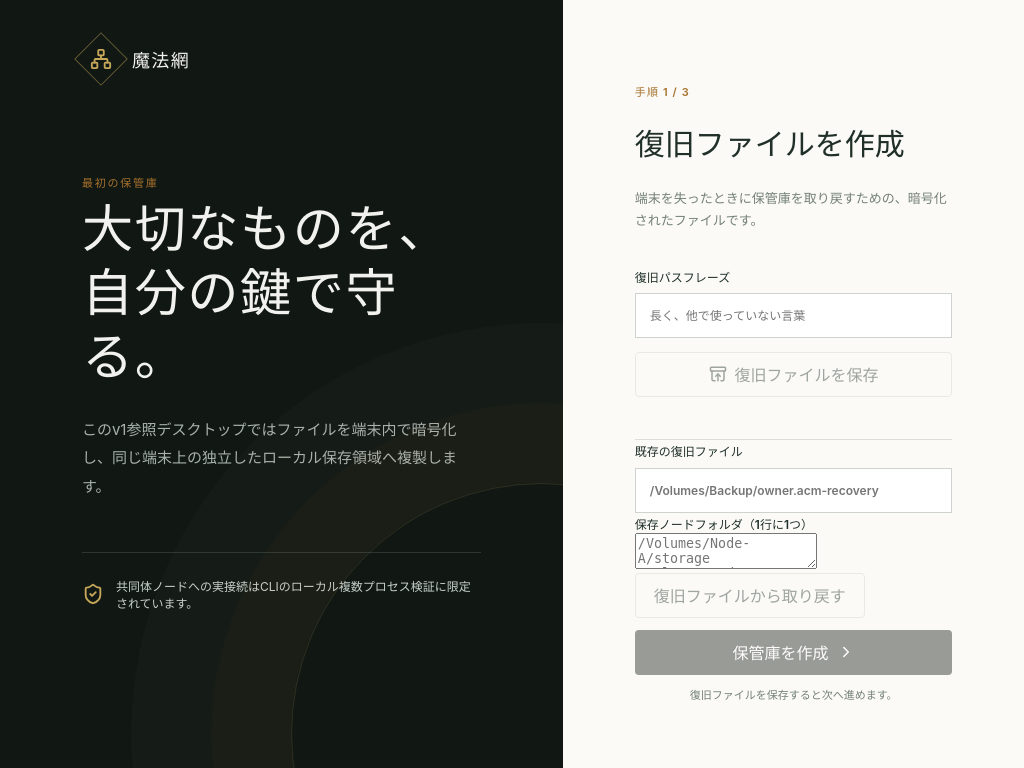
Scenario: desktop safety flows › shows overview after recovery export
Expected: the button "保管庫を作成" is disabled, [635, 630, 952, 675]
Type "very long recovery phrase" into the password field labelled "復旧パスフレーズ" at (794, 315), box [635, 293, 952, 338]
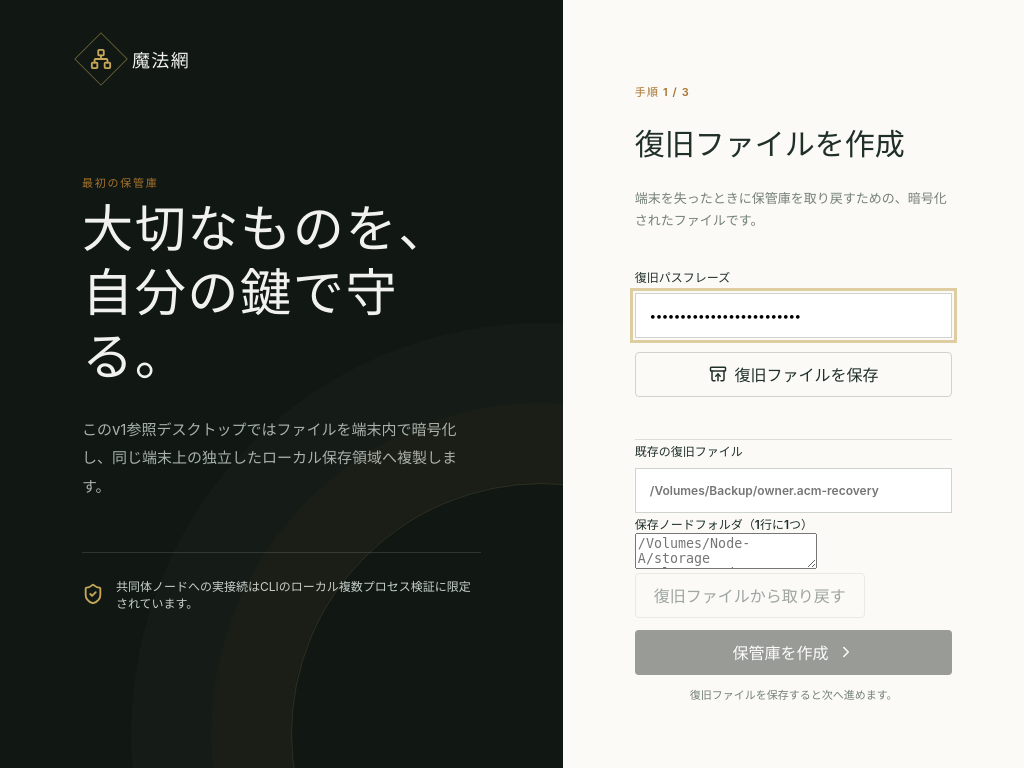
Click the button "復旧ファイルを保存" at (794, 374), box [635, 352, 952, 397]
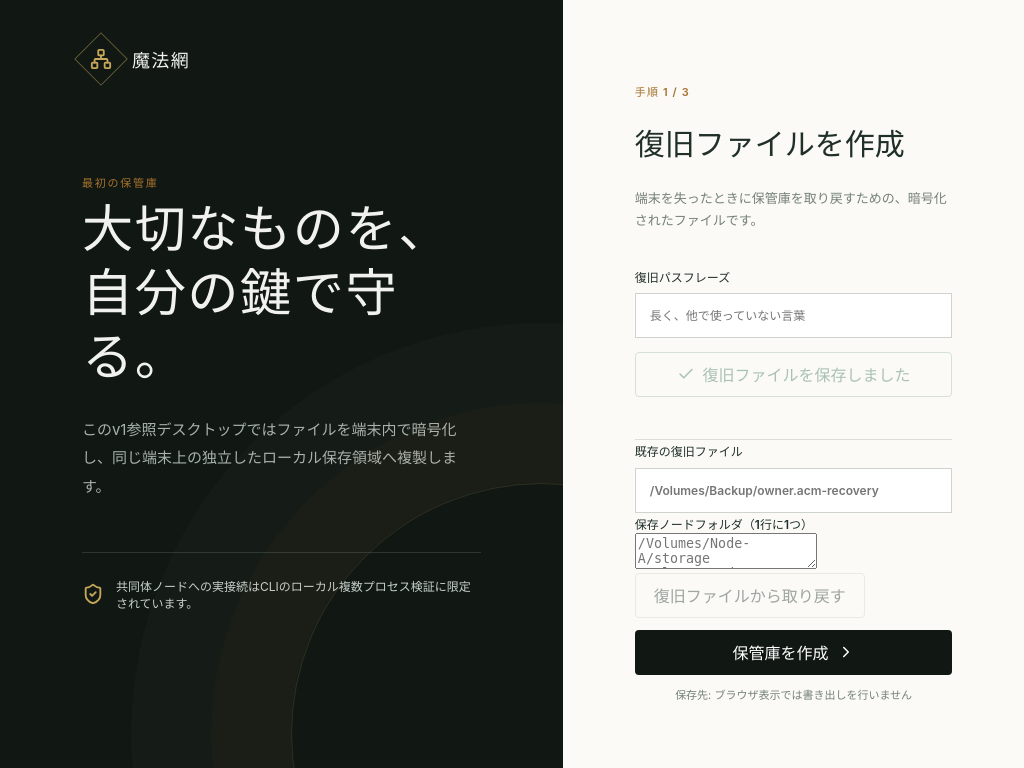
Expected: the button "保管庫を作成" is enabled
Click the button "保管庫を作成" at (794, 652), box [635, 630, 952, 675]
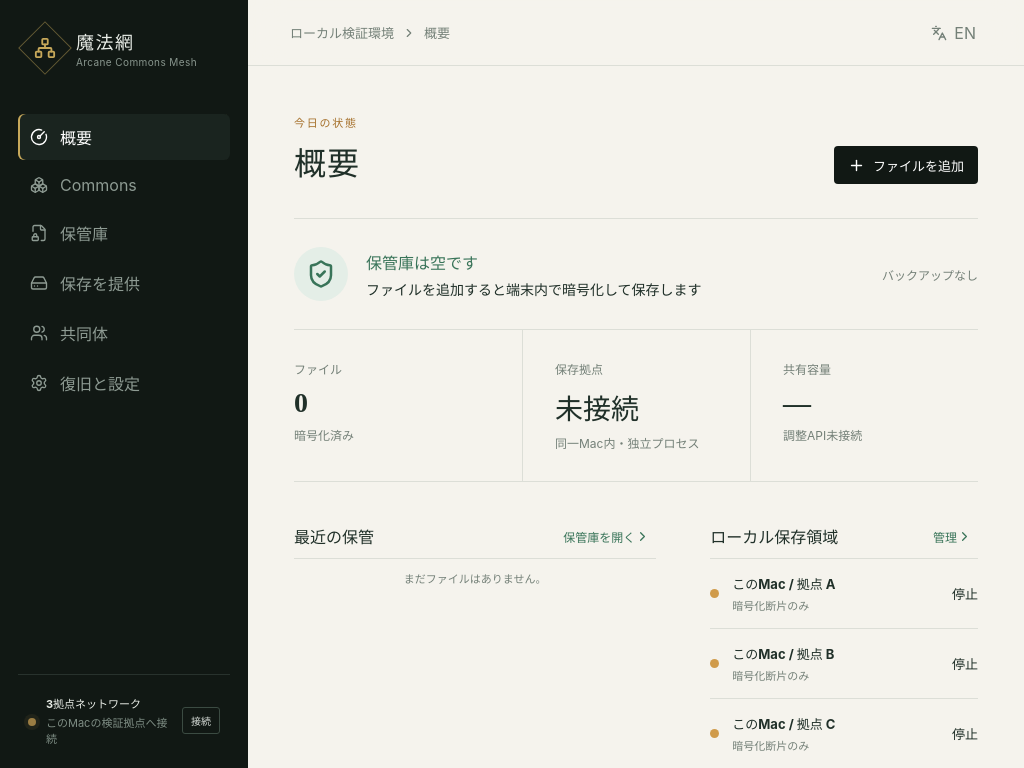
Expected: the text "保管庫は空です" is shown, [366, 252, 478, 272]
Expected: the text "バックアップなし" is shown, [882, 266, 978, 282]
